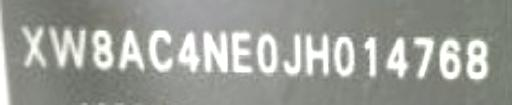letter: (48, 26, 86, 67), (201, 28, 231, 75), (146, 28, 174, 73), (19, 23, 47, 66), (229, 30, 255, 75), (304, 32, 330, 77), (118, 28, 144, 71), (385, 34, 411, 77), (463, 37, 489, 80), (177, 28, 201, 73), (256, 30, 280, 75), (280, 32, 304, 77), (89, 28, 115, 69), (332, 34, 356, 77), (411, 37, 435, 80), (437, 37, 461, 80), (360, 34, 378, 77)
